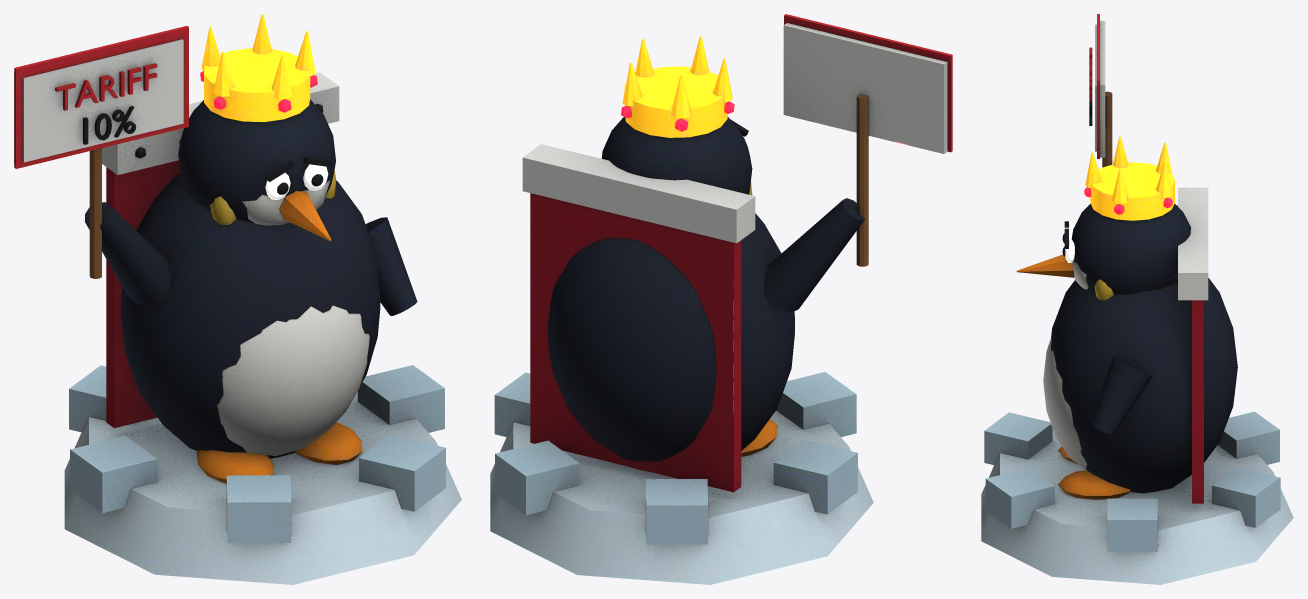
Rendered from jefe_pinguino.glb.
3 renders of one model, left to right at view 1: azimuth 30°, elevation 25°; view 2: azimuth 150°, elevation 25°; view 3: azimuth 270°, elevation 25°, orthographic. The views are drawn at different scales.
Visible parts, largest first — view 1: jefe_pinguino; view 2: jefe_pinguino; view 3: jefe_pinguino.
Part boxes in pixels (x1,y1,x2,y2): jefe_pinguino: (14,14,461,584); jefe_pinguino: (490,14,952,584); jefe_pinguino: (981,14,1293,584).
Size of the model in its own units: 3.96 by 4.41 by 3.1.
1 material, 1 textured.
